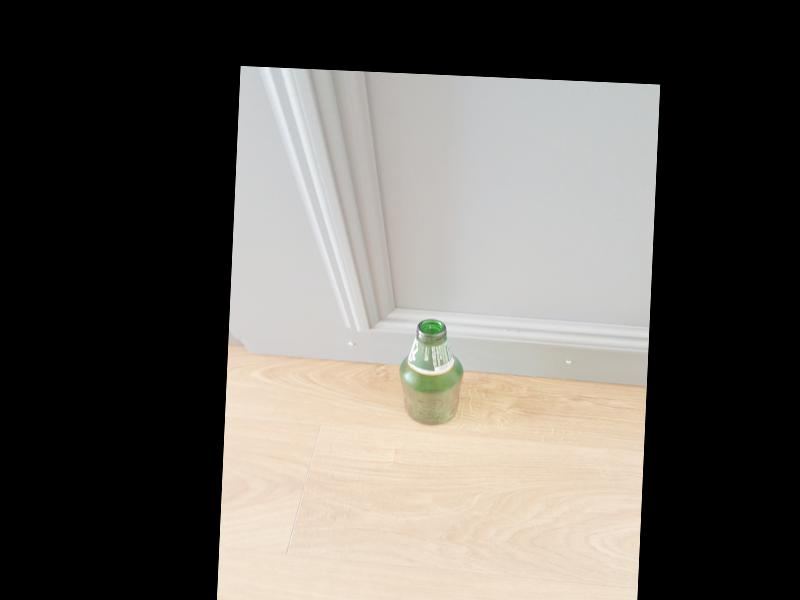Beer: (397, 318, 465, 426)
